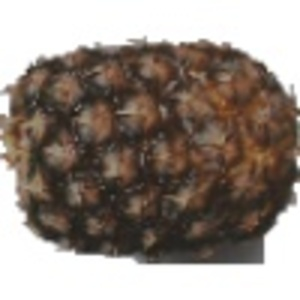abacaxi: (1, 37, 298, 260)
